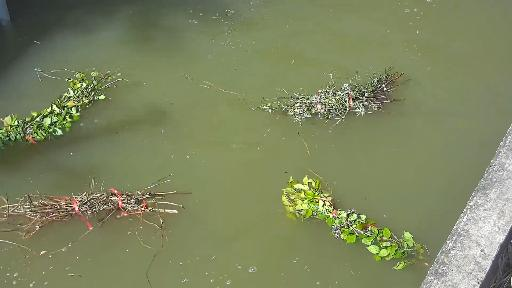twig: (277, 170, 443, 272), (0, 176, 203, 251), (0, 64, 141, 165), (231, 62, 407, 137)
